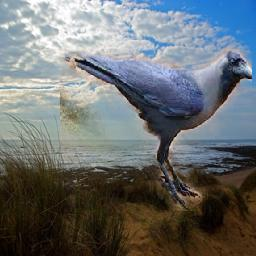Crow: (60, 49, 252, 211)
